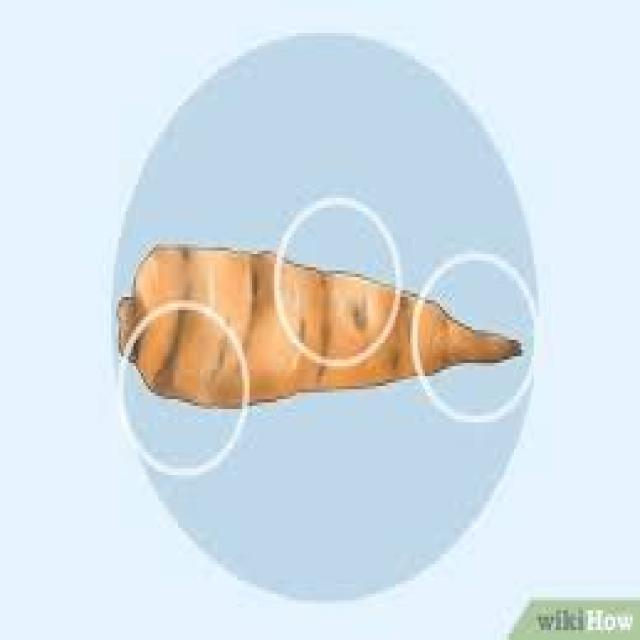Stale_Carrot: (133, 248, 533, 401)
